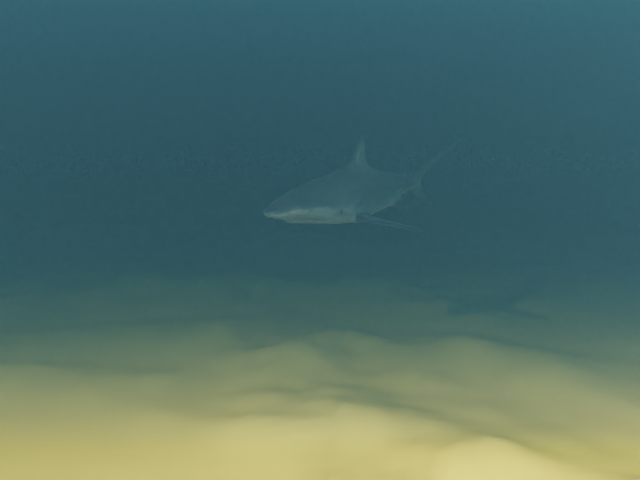Carribean Shark.001: (262, 134, 464, 231)
